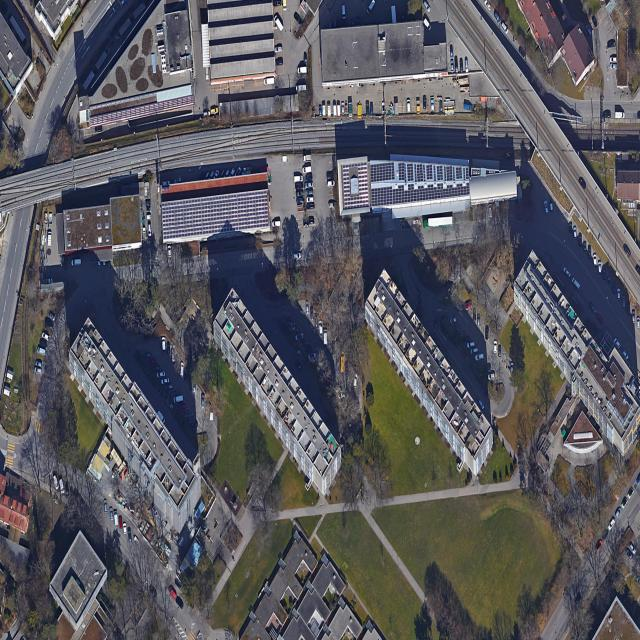large-vehicle: (423, 216, 454, 229), (274, 15, 284, 32), (571, 277, 581, 291), (367, 0, 376, 15), (168, 586, 177, 600), (157, 410, 166, 424), (423, 18, 432, 32), (40, 277, 53, 286), (53, 475, 60, 490), (494, 12, 502, 25), (340, 352, 345, 372), (501, 22, 509, 34), (71, 258, 81, 267), (59, 479, 65, 494), (391, 6, 396, 23), (174, 395, 183, 404), (296, 84, 306, 92), (264, 77, 274, 85), (302, 166, 312, 174), (114, 511, 119, 526), (37, 347, 46, 355), (615, 112, 625, 119), (297, 67, 307, 74), (294, 176, 303, 183), (272, 221, 281, 228), (464, 104, 473, 111), (180, 362, 184, 377), (142, 218, 146, 233), (439, 100, 443, 115), (342, 5, 346, 20), (162, 337, 166, 351), (303, 155, 311, 162), (489, 204, 493, 218), (416, 100, 420, 114), (319, 321, 323, 335), (322, 104, 326, 117), (327, 104, 331, 117), (333, 104, 337, 117), (431, 99, 435, 112), (407, 100, 411, 113), (479, 97, 488, 102), (283, 0, 287, 11), (324, 330, 327, 344), (48, 232, 51, 246), (337, 104, 340, 117)
small-vehicle: (607, 517, 616, 532), (45, 316, 54, 330), (294, 12, 303, 26), (588, 301, 597, 315), (149, 584, 157, 599), (596, 312, 605, 325), (623, 244, 632, 257), (563, 266, 572, 279), (578, 177, 587, 190), (626, 487, 635, 500), (601, 528, 610, 541), (294, 359, 303, 372), (423, 1, 432, 14), (176, 597, 184, 610), (234, 166, 242, 179), (629, 542, 637, 555), (615, 506, 623, 519), (585, 24, 593, 37), (478, 398, 486, 411), (41, 331, 50, 342), (591, 15, 598, 29), (613, 337, 621, 349), (626, 548, 634, 560), (595, 540, 603, 552), (543, 199, 549, 215), (518, 46, 526, 58), (175, 578, 182, 591), (621, 497, 628, 510), (483, 0, 492, 10), (353, 373, 359, 388), (474, 353, 485, 361), (229, 167, 236, 179), (622, 349, 629, 361), (464, 301, 473, 310), (160, 377, 170, 385), (174, 176, 184, 184), (328, 201, 338, 209), (40, 338, 47, 349), (213, 169, 220, 180), (208, 170, 215, 181), (464, 58, 469, 73), (165, 383, 174, 391), (210, 107, 219, 115), (143, 352, 152, 360), (148, 358, 157, 366), (295, 332, 304, 340), (487, 372, 495, 381), (470, 347, 479, 355), (466, 341, 475, 349), (156, 371, 166, 378), (49, 312, 56, 322), (459, 59, 464, 73), (454, 59, 459, 73), (592, 254, 597, 267), (597, 261, 602, 274), (578, 234, 583, 247), (450, 60, 455, 73), (493, 341, 498, 354), (153, 365, 161, 373), (327, 180, 335, 188), (274, 46, 283, 53), (161, 181, 170, 188), (607, 41, 616, 48), (308, 353, 317, 360), (306, 203, 315, 210), (304, 181, 313, 188), (462, 335, 471, 342), (224, 169, 230, 179), (128, 528, 132, 542), (34, 367, 42, 374), (35, 360, 42, 368), (201, 394, 205, 408), (178, 403, 186, 410), (450, 45, 454, 59), (332, 341, 336, 355), (310, 306, 314, 320), (305, 300, 309, 314), (306, 196, 314, 203), (449, 317, 457, 324), (472, 308, 476, 322), (484, 367, 492, 374), (305, 190, 314, 196), (119, 516, 123, 529), (110, 507, 114, 520), (104, 500, 108, 513), (148, 223, 152, 236), (168, 245, 172, 258), (341, 102, 345, 115), (617, 288, 621, 301), (602, 267, 606, 280), (622, 296, 626, 309), (423, 97, 427, 110), (485, 326, 489, 339), (123, 523, 127, 535), (318, 105, 322, 117), (303, 54, 307, 66), (275, 60, 283, 66), (203, 112, 211, 118), (612, 281, 616, 293), (295, 184, 303, 190), (549, 200, 553, 212), (627, 302, 631, 314), (381, 102, 385, 114), (370, 102, 374, 114), (609, 63, 617, 69), (603, 112, 611, 118), (338, 393, 346, 399), (293, 253, 301, 259), (296, 198, 304, 204), (296, 191, 304, 197), (477, 314, 481, 326), (583, 242, 587, 253), (573, 227, 577, 238), (511, 362, 515, 373), (498, 346, 502, 357), (167, 342, 170, 356), (327, 174, 334, 180), (632, 310, 635, 324), (610, 57, 617, 63), (305, 175, 312, 181), (306, 219, 314, 224), (366, 101, 369, 114), (588, 247, 591, 259), (569, 222, 572, 233), (637, 317, 640, 327)
